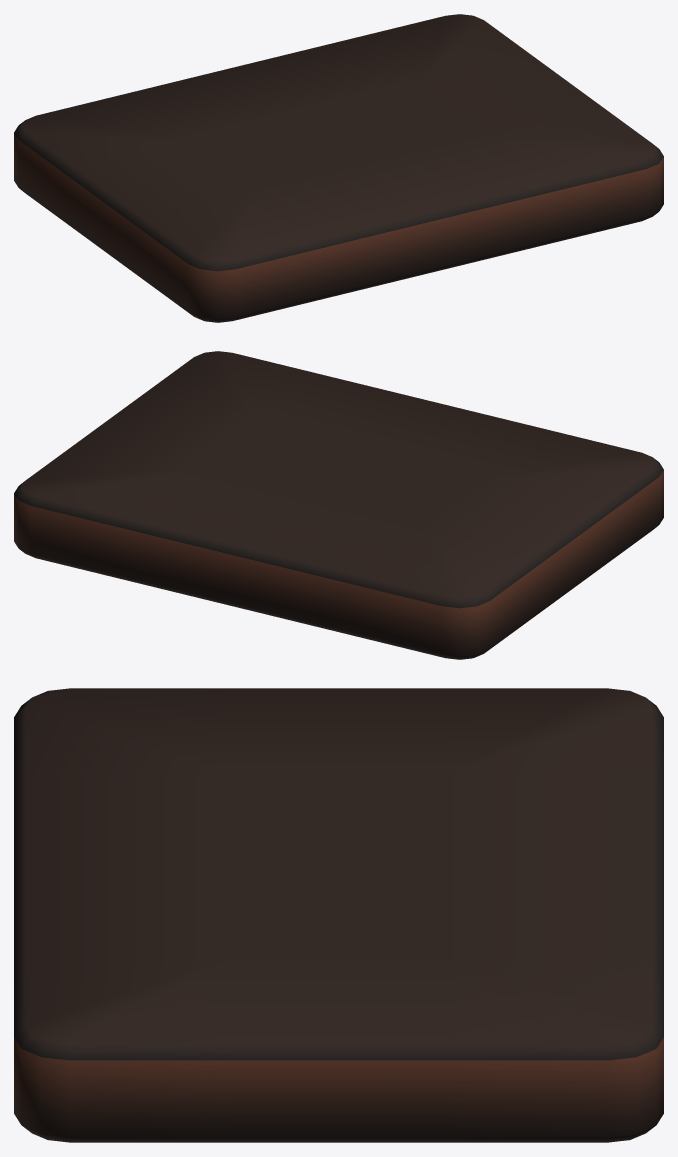
Rendered from m_Brownie01.fbx.
3 renders of one model, top to bottom at view 1: azimuth 30°, elevation 25°; view 2: azimuth 150°, elevation 25°; view 3: azimuth 270°, elevation 25°, orthographic. The views are drawn at different scales.
Parts seen in each view (by area): view 1: m_Brownie01; view 2: m_Brownie01; view 3: m_Brownie01.
Boxes of the visible parts, x1,y1,x2,y2 form: m_Brownie01: (14,14,663,322); m_Brownie01: (14,351,663,659); m_Brownie01: (14,688,663,1142).
Size of the model in its own units: 40 by 5 by 30.
